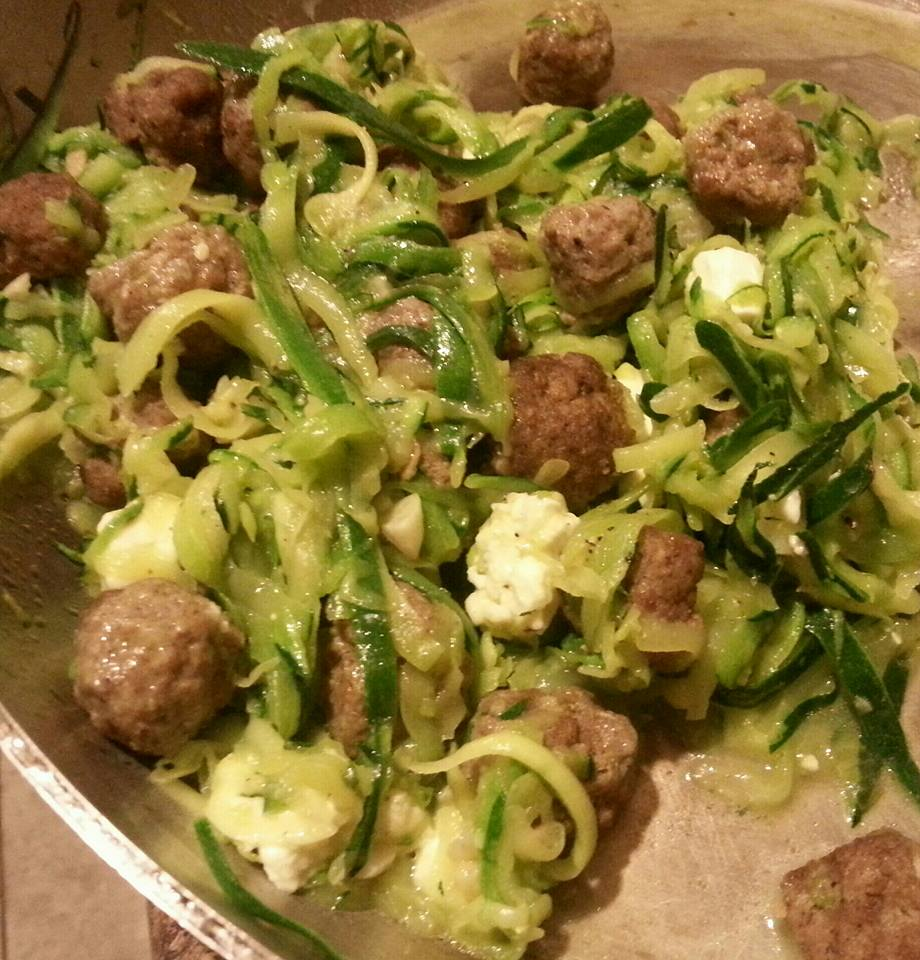meatballs: (68, 583, 244, 747), (491, 337, 634, 494)
